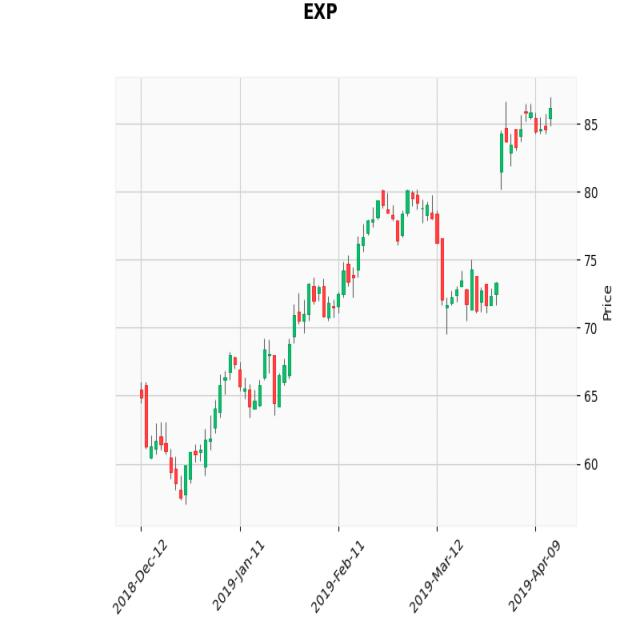Double-Top: (347, 180, 449, 312)
